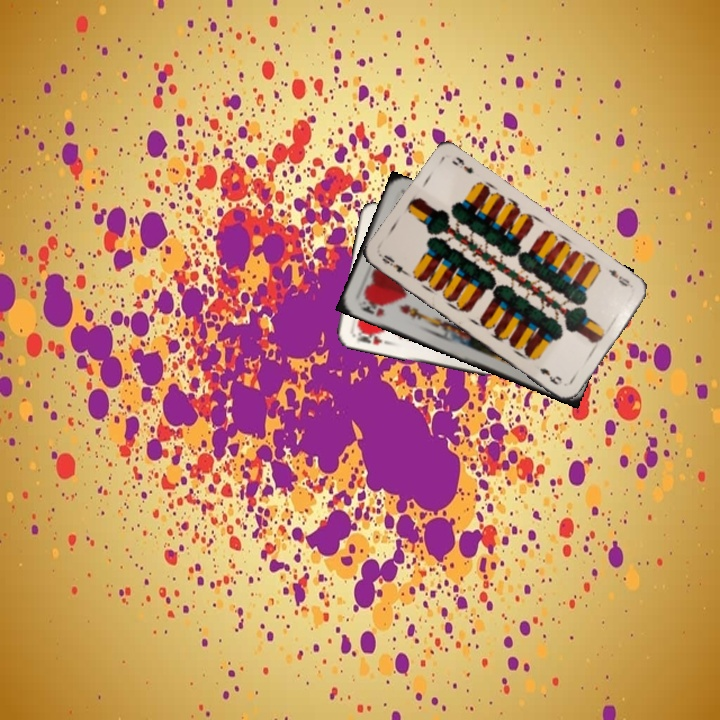E9: (376, 251, 412, 279), (604, 265, 636, 291)
HK: (354, 294, 387, 319), (353, 326, 385, 348)
